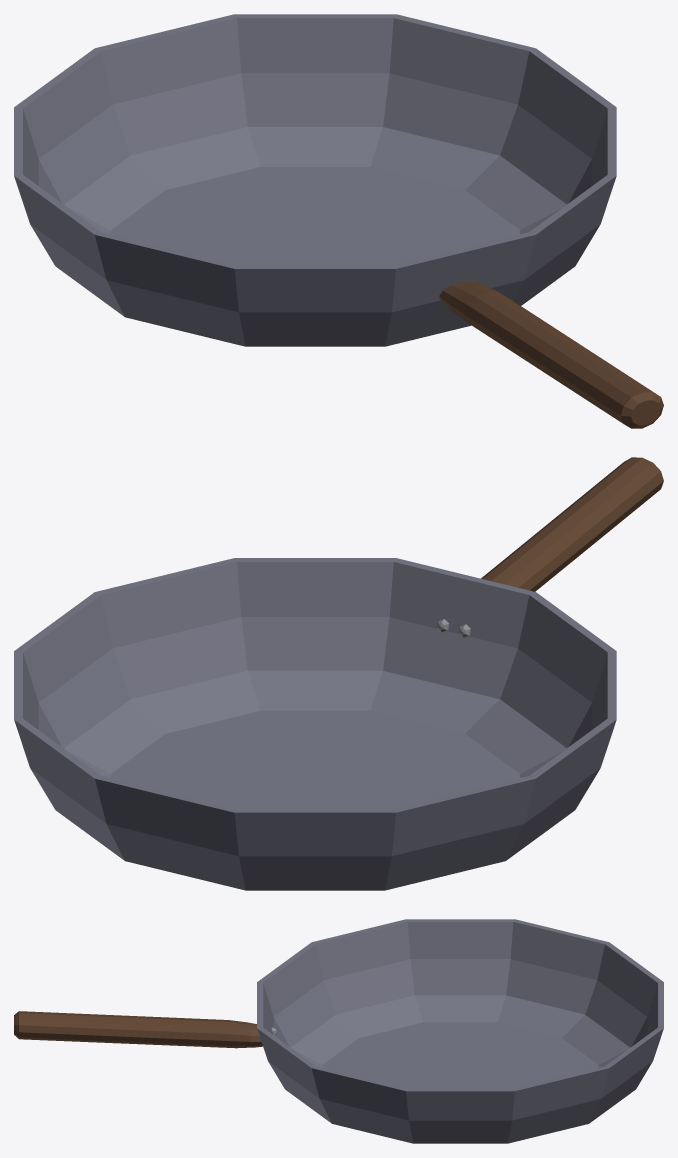
Rendered from Pan.fbx.
The picture shows the model from 3 angles, top to bottom: view 1: azimuth 30°, elevation 25°; view 2: azimuth 150°, elevation 25°; view 3: azimuth 270°, elevation 25°; orthographic projection. The views are drawn at different scales.
Visible parts, largest first — view 1: Sphere; view 2: Sphere; view 3: Sphere.
Boxes of the visible parts, bbox=[...] form: Sphere: bbox=[14, 14, 663, 428]; Sphere: bbox=[14, 457, 663, 890]; Sphere: bbox=[14, 919, 663, 1143].
Size of the model in its own units: 193 by 40.97 by 309.
